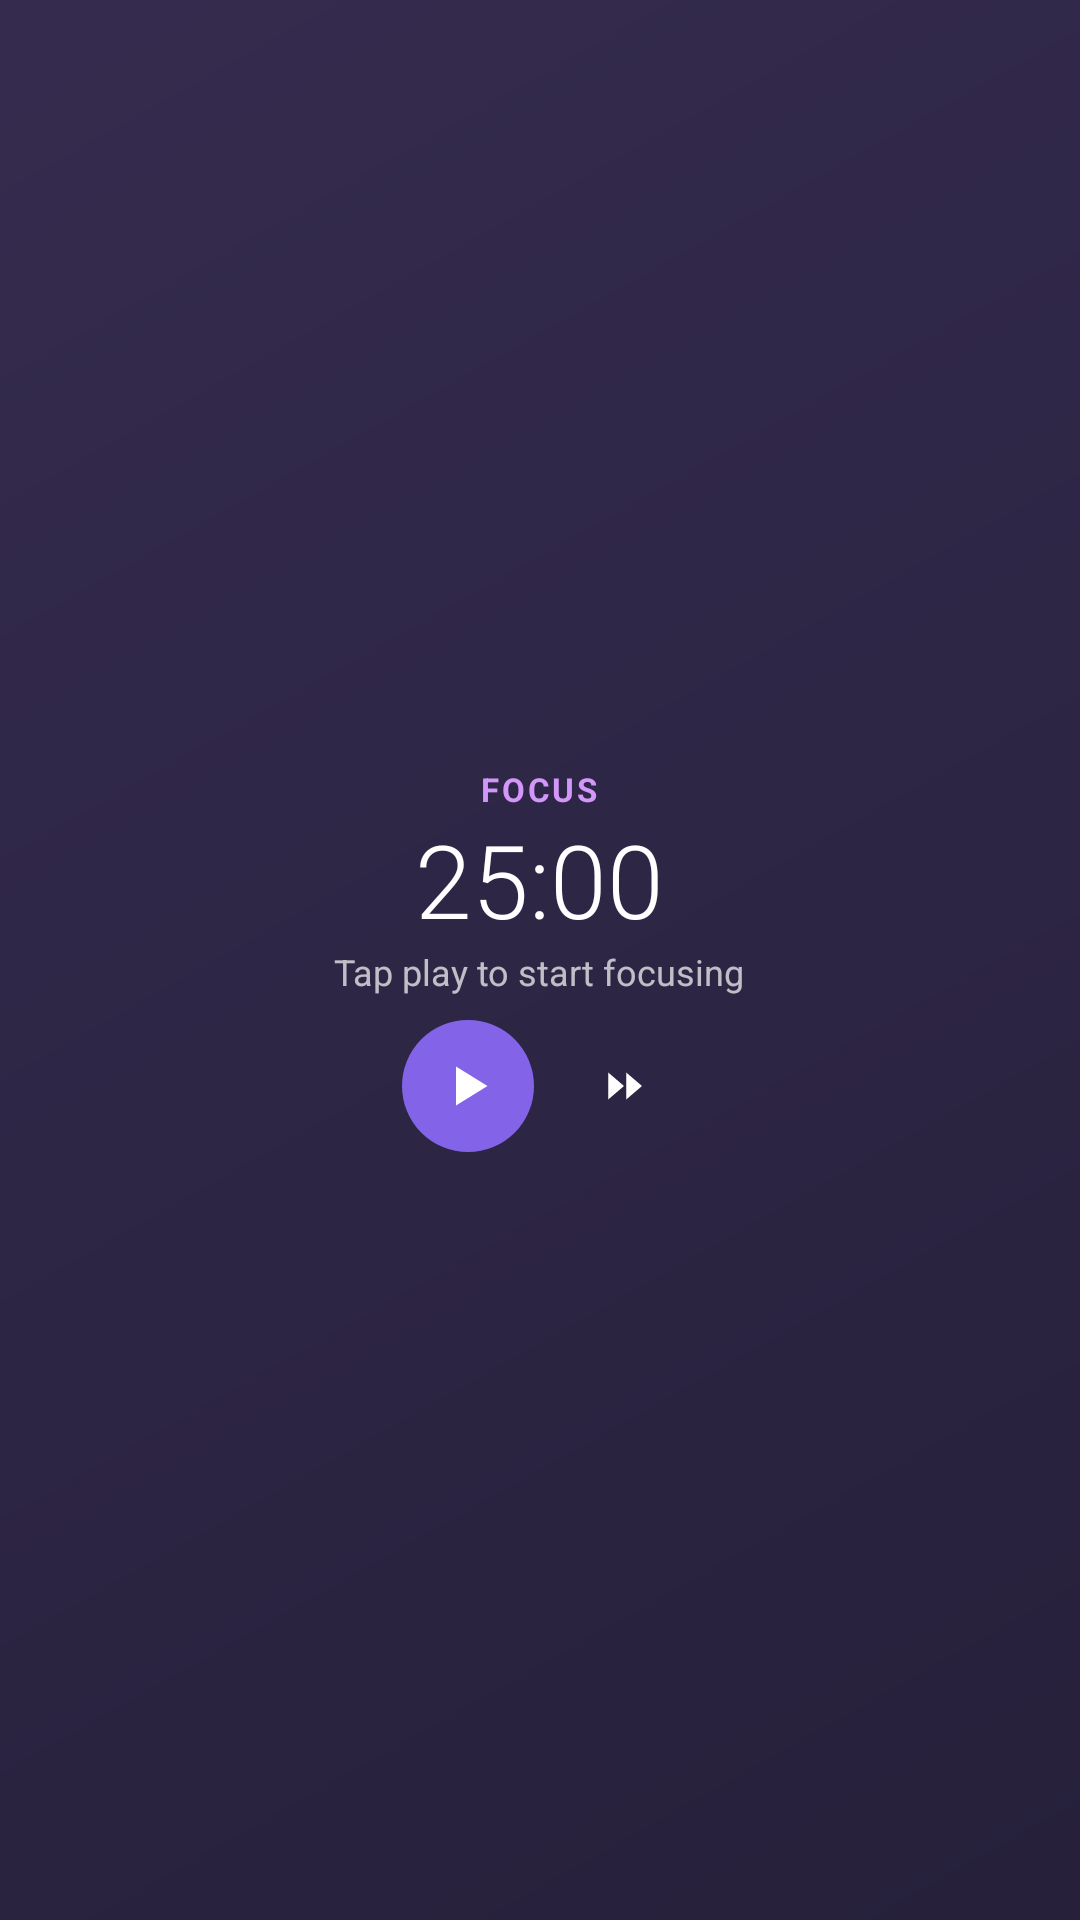

Screen size 1080w x 1920h. Icon name, then its center in pixels as (x,y):
Skip: (625,1086)
